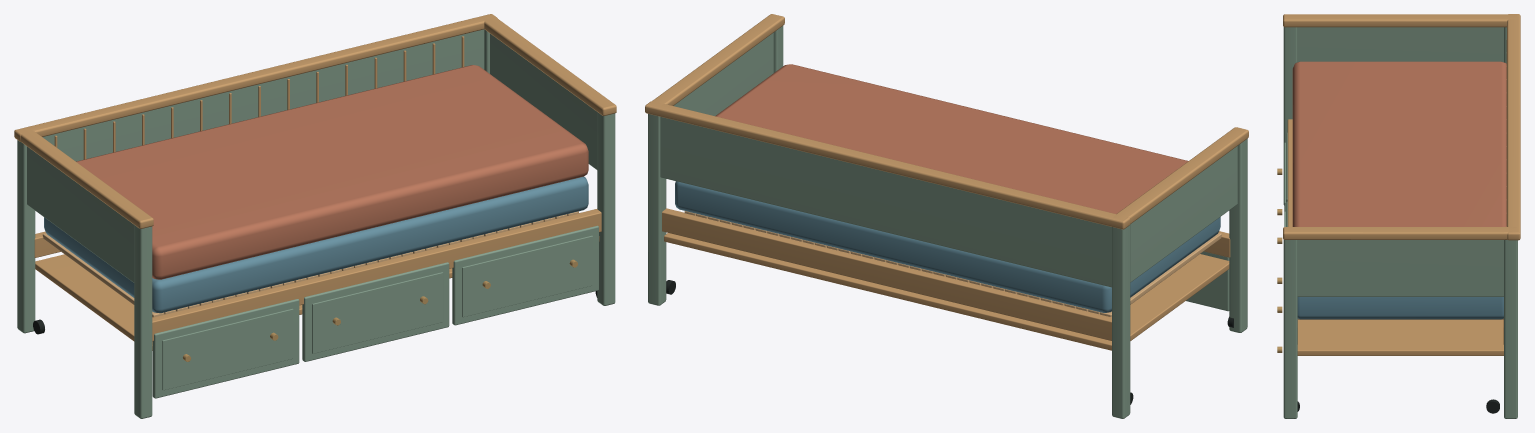
File: expanding-daybed.glb
3 renders of one model, left to right at view 1: azimuth 30°, elevation 25°; view 2: azimuth 150°, elevation 25°; view 3: azimuth 270°, elevation 25°, orthographic. The views are drawn at different scales.
Visible parts, largest first — view 1: catalog_surface_RealismUV; view 2: catalog_surface_RealismUV; view 3: catalog_surface_RealismUV.
Part boxes in pixels (bbox=[...]): catalog_surface_RealismUV: bbox=[14, 14, 616, 418]; catalog_surface_RealismUV: bbox=[645, 14, 1248, 418]; catalog_surface_RealismUV: bbox=[1277, 14, 1520, 418].
Bounding box in the file's own units: 2.14 × 0.85 × 1.
